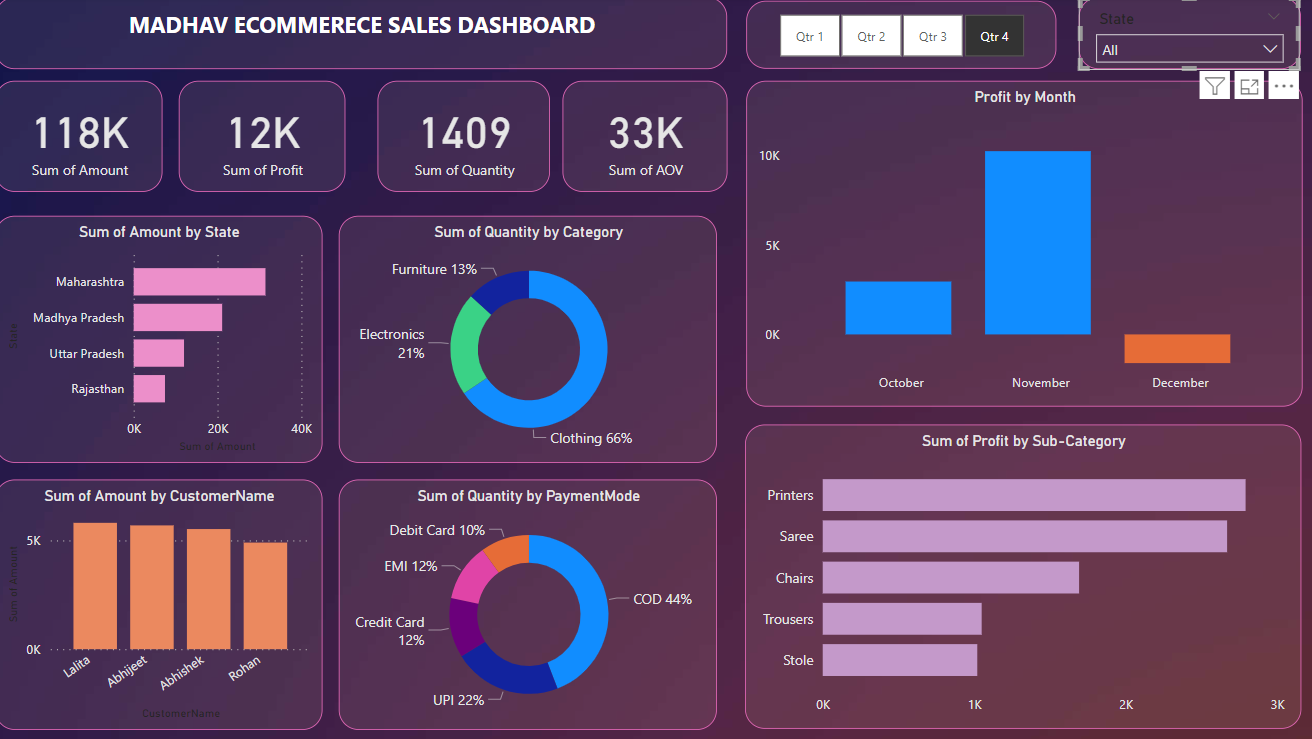

The dashboard page shown, as its layout file describes it:
{"tool":"powerbi","page":{"name":"Page 1","canvas":[1280,720],"ordinal":0},"visuals":[{"type":"textbox","box":[0,0,706.7,70],"z":0},{"type":"columnChart","title":"Profit by Month","fields":{"Category":["Orders.Order Date.Variation.Date Hierarchy.Month"],"Y":["Details.Profit"]},"box":[724.5,81,536.5,314.2],"z":1000},{"type":"barChart","fields":{"Category":["Details.Sub-Category"],"Y":["Details.Profit"]},"box":[723.2,413,536.5,293.7],"z":2000},{"type":"donutChart","fields":{"Category":["Details.Category"],"Y":["Details.Quantity"]},"box":[332.1,211.3,365,238.8],"z":3000},{"type":"donutChart","fields":{"Y":["Details.Quantity"],"Category":["Details.PaymentMode"]},"box":[332.1,465.2,365,241.5],"z":4000},{"type":"card","fields":{"Values":["Details.Amount"]},"box":[0,81,161.9,107],"z":5000},{"type":"card","fields":{"Values":["Details.Quantity"]},"box":[369.1,81,166,107],"z":6000},{"type":"card","fields":{"Values":["Details.Profit"]},"box":[177,81,160.5,107],"z":7000},{"type":"card","fields":{"Values":["Details.AOV"]},"box":[547.5,81,159.2,107],"z":8000},{"type":"barChart","fields":{"Category":["Orders.State"],"Y":["Details.Amount"]},"box":[0,211.3,315.6,238.8],"z":9000},{"type":"columnChart","fields":{"Category":["Orders.CustomerName"],"Y":["Details.Amount"]},"box":[0,465.2,315.6,241.5],"z":10000},{"type":"slicer","fields":{"Values":["Orders.Order Date.Variation.Date Hierarchy.Quarter"]},"box":[724.5,4.1,299.1,65.9],"z":11000},{"type":"slicer","fields":{"Values":["Orders.State"]},"box":[1045.6,0,214.1,70],"z":12000}]}

Visuals, with their boxes in screenshot pixels (x1, y1, x2, y2), scaled from the page's 1280x720 canvas onto the 1312x739 screenshot:
textbox: locate(0, 0, 724, 72)
"Profit by Month" columnChart: locate(743, 83, 1293, 406)
barChart - Details.Sub-Category x Details.Profit: locate(741, 424, 1291, 725)
donutChart - Details.Category x Details.Quantity: locate(340, 217, 715, 462)
donutChart - Details.Quantity x Details.PaymentMode: locate(340, 477, 715, 725)
card - Details.Amount: locate(0, 83, 166, 193)
card - Details.Quantity: locate(378, 83, 548, 193)
card - Details.Profit: locate(181, 83, 346, 193)
card - Details.AOV: locate(561, 83, 724, 193)
barChart - Orders.State x Details.Amount: locate(0, 217, 323, 462)
columnChart - Orders.CustomerName x Details.Amount: locate(0, 477, 323, 725)
slicer - Orders.Order Date.Variation.Date Hierarchy.Quarter: locate(743, 4, 1049, 72)
slicer - Orders.State: locate(1072, 0, 1291, 72)
